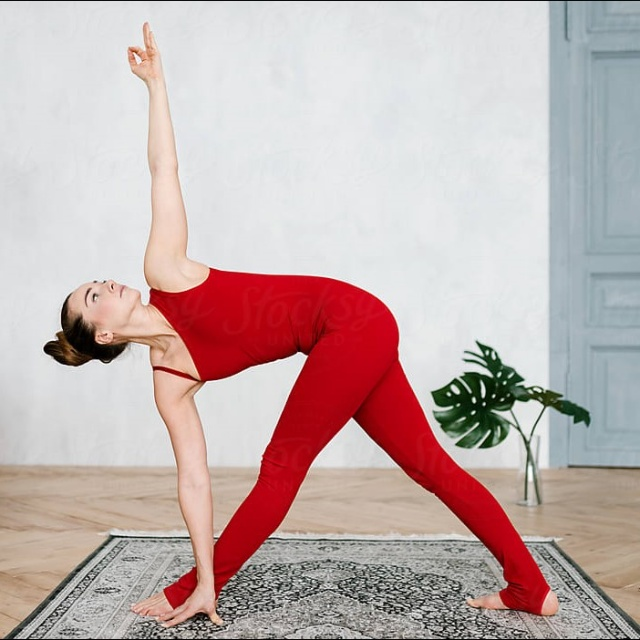Triangle_Pose: (36, 17, 574, 630)
